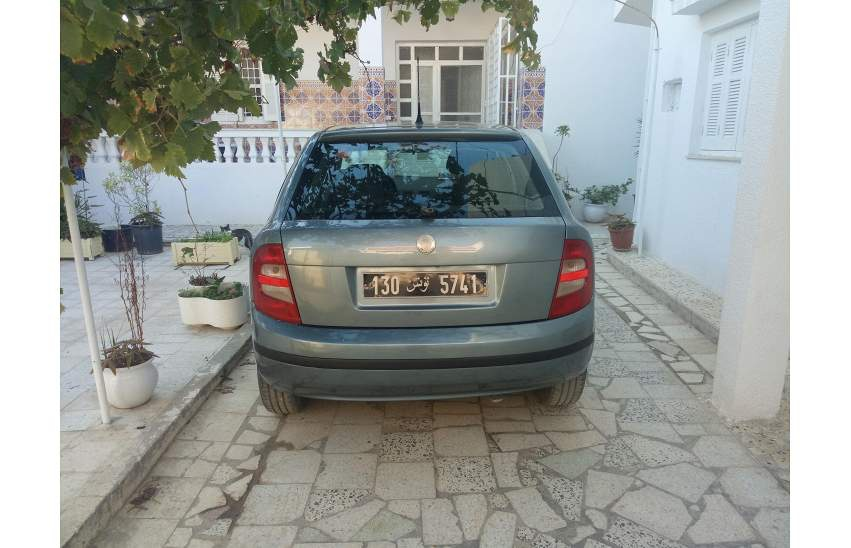LP: (359, 269, 492, 300)
